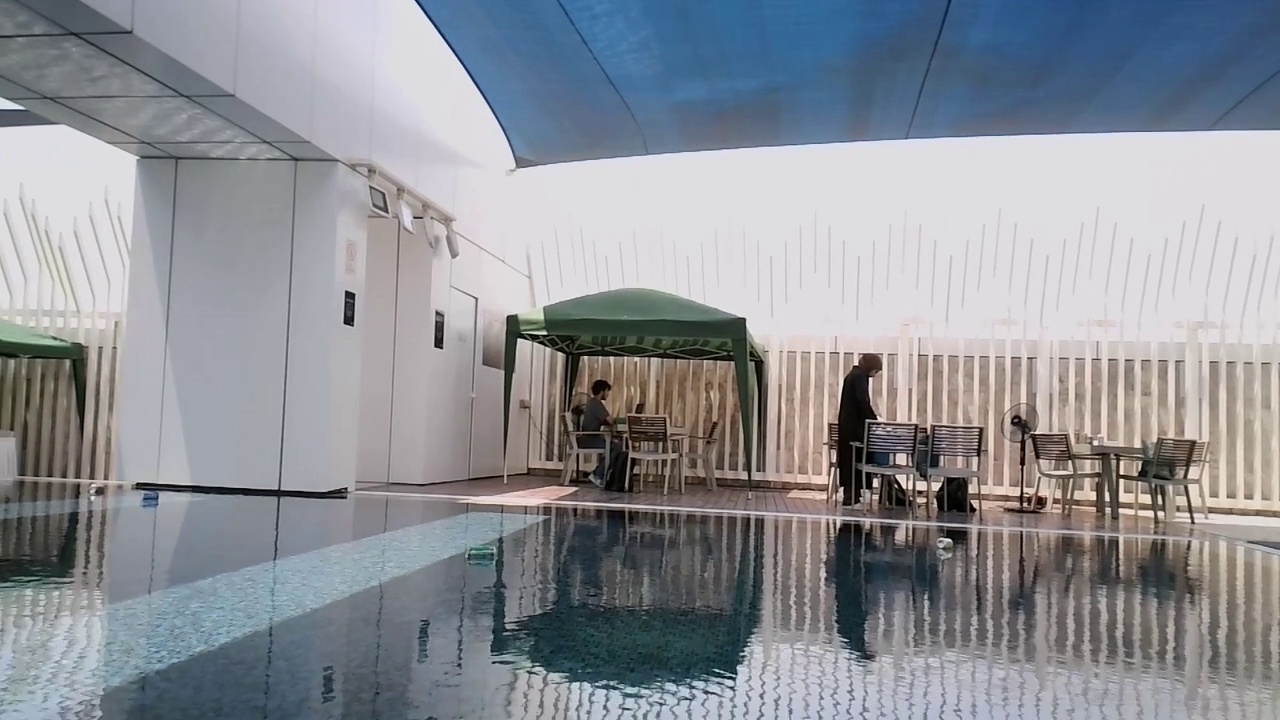debris: (460, 540, 502, 571), (932, 533, 955, 555), (138, 488, 162, 505), (87, 480, 107, 498)
